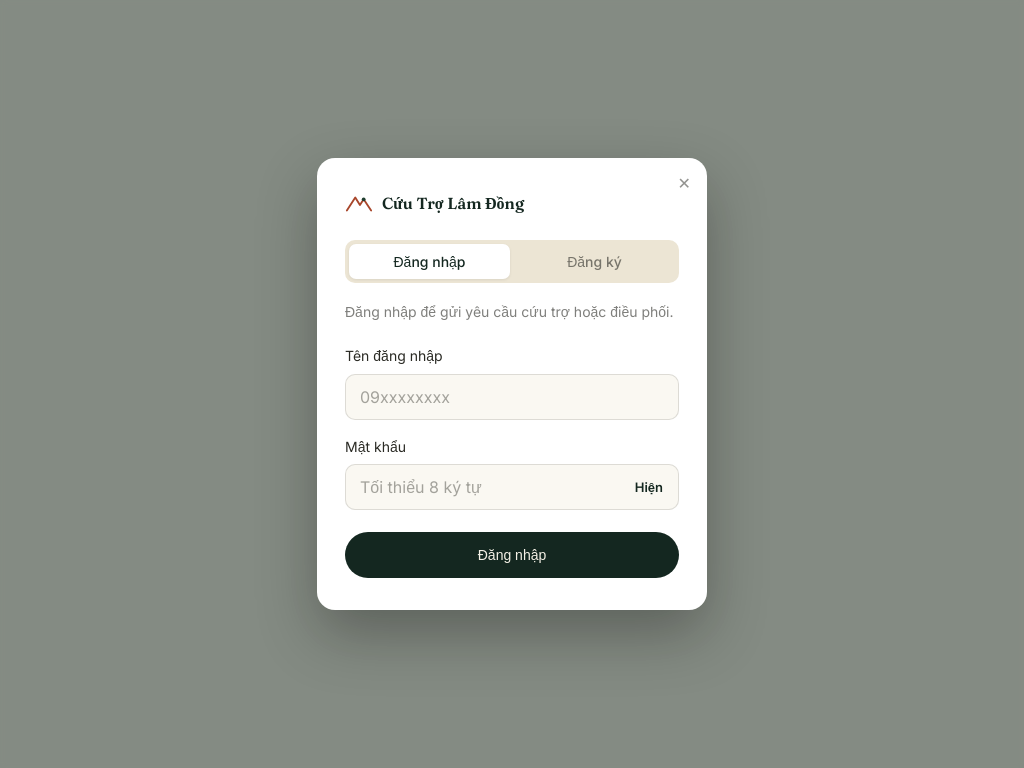
Test: AuthModal — hiện/ẩn mật khẩu › bấm nút thì chuyển giữa ẩn và hiện, không mất chữ đã gõ
The width and height of the screenshot is (1024, 768).
Type "matkhau123" into the password field labelled "Mật khẩu Hiện" at coordinates (512, 487), box [345,464,679,510]
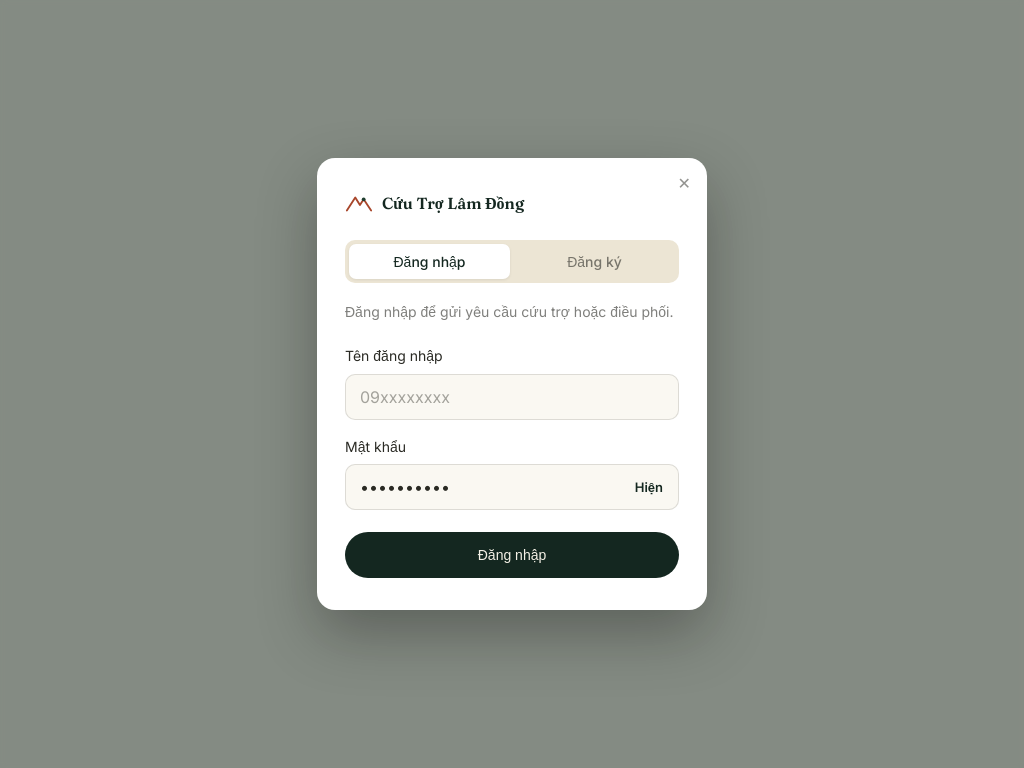
Click the button with test id "hien-mat-khau" at coordinates (649, 487), box [625,469,673,505]
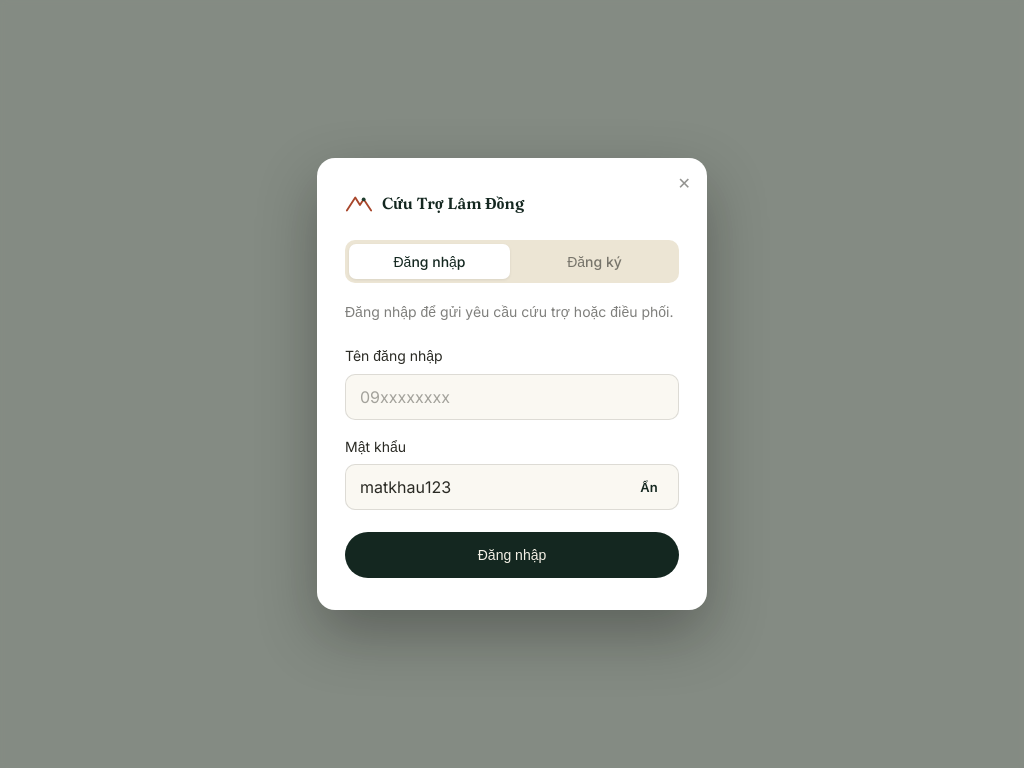
expect the field labelled "Mật khẩu Ẩn" shows its text: met, box [345,464,679,510]
Click the button with test id "hien-mat-khau" at coordinates (649, 487), box [625,469,673,505]
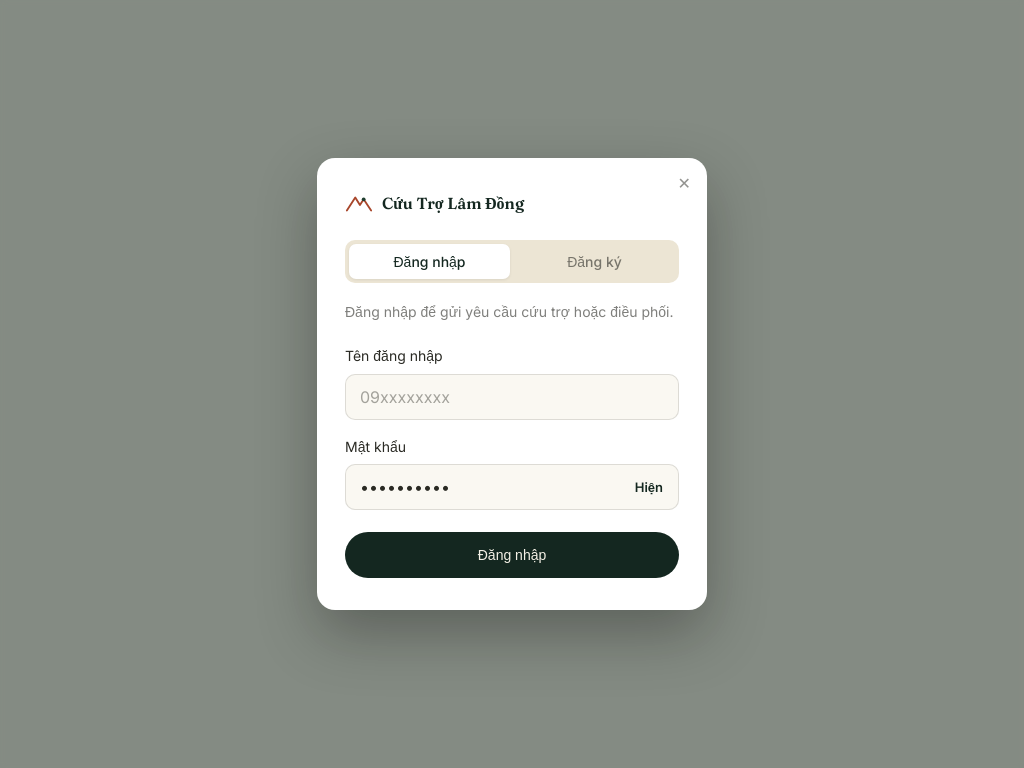
expect the password field labelled "Mật khẩu Hiện" hides its text: met, box [345,464,679,510]
